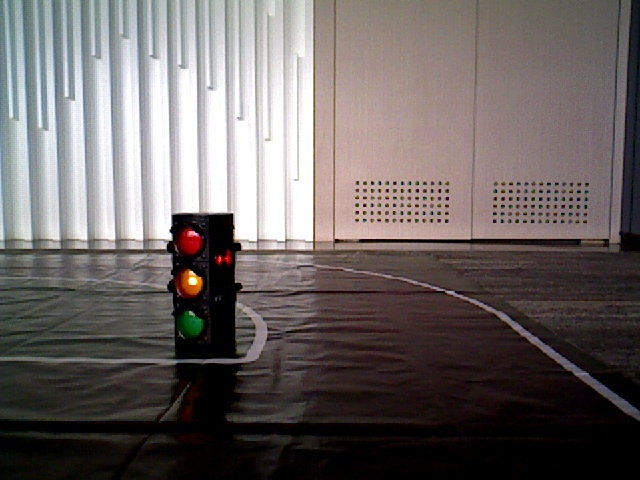yellow: (168, 219, 211, 346)
